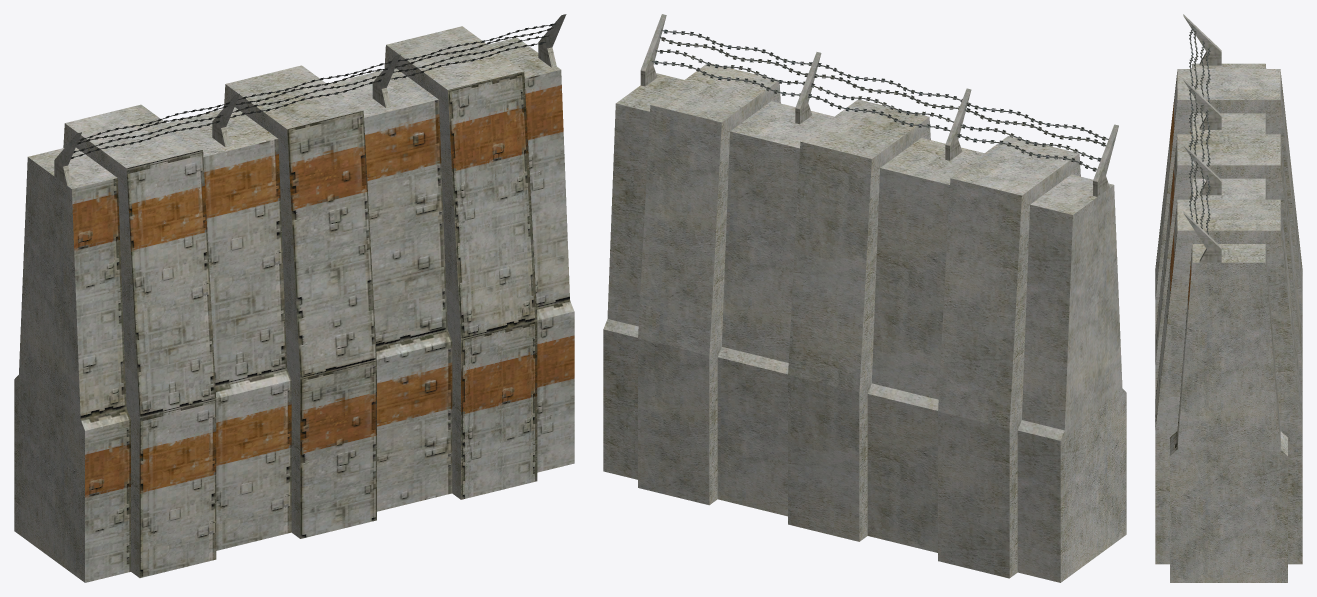
File: mun_all_military_wall_strong_rebl_s01_l0.fbx
3 views of the same model, side by side, from view 1: azimuth 30°, elevation 25°; view 2: azimuth 150°, elevation 25°; view 3: azimuth 270°, elevation 25° (orthographic). The views are drawn at different scales.
Parts seen in each view (by area): view 1: mesh_node; view 2: mesh_node; view 3: mesh_node.
Part boxes in pixels (box(x1,y1,x2,y2)): mesh_node: box(14, 14, 574, 582); mesh_node: box(603, 14, 1126, 582); mesh_node: box(1155, 14, 1302, 582).
Bounding box in the file's own units: 8 × 6.93 × 2.5.
